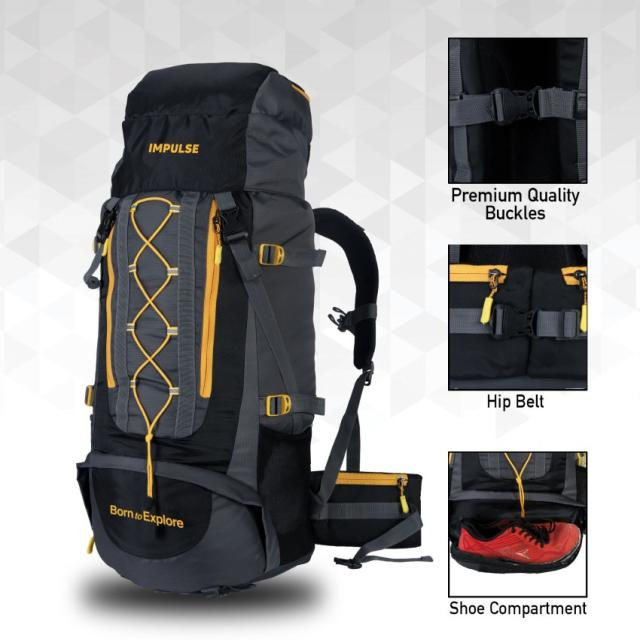backpack: (76, 62, 431, 599)
